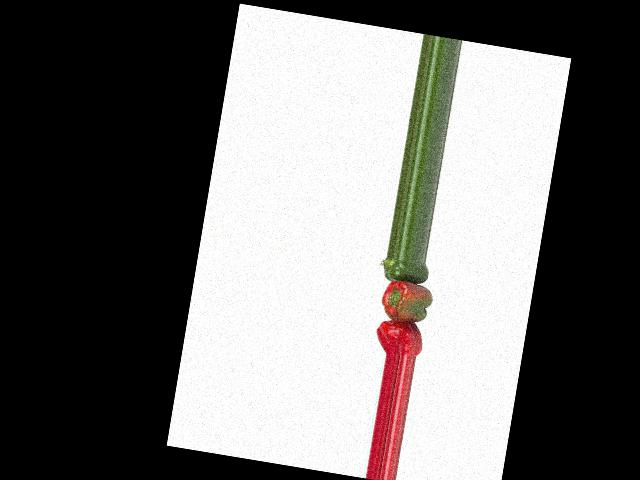bell_pepper: (369, 315, 428, 359)
